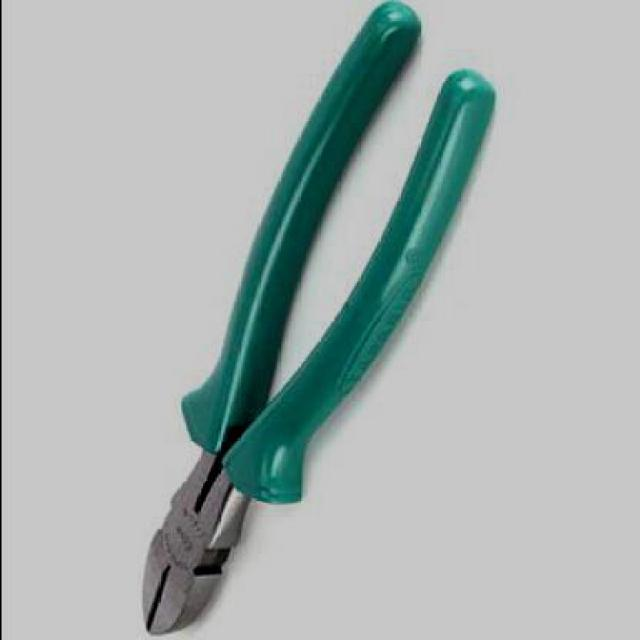pliers: (113, 0, 499, 632)
